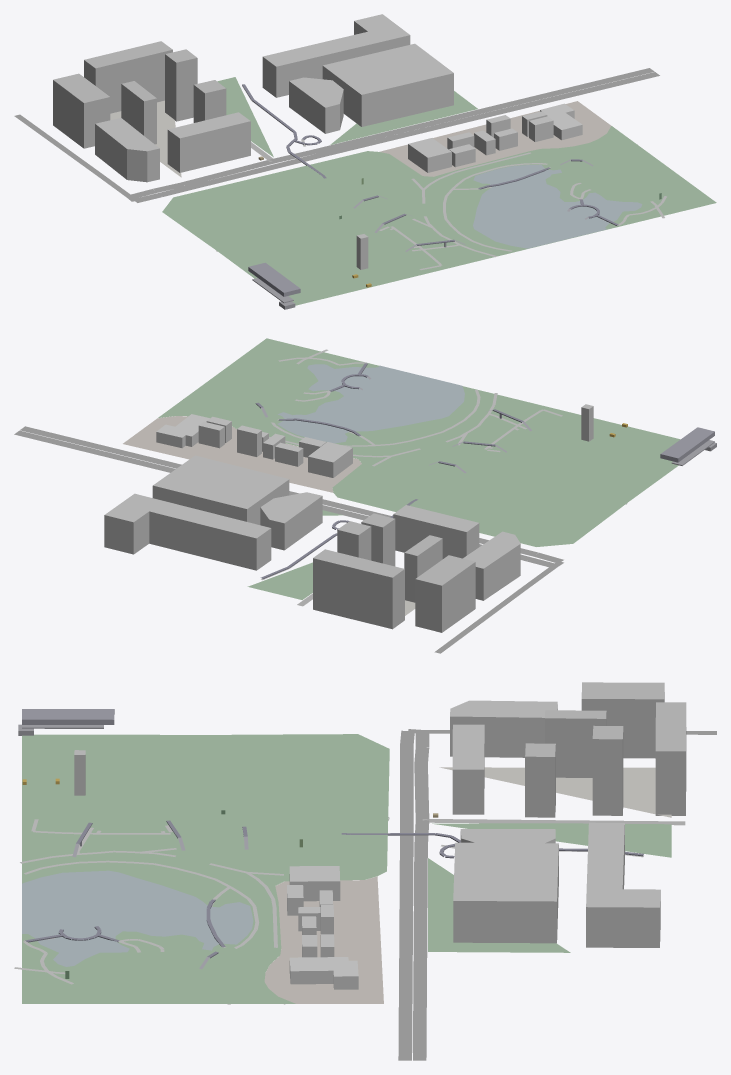
The picture shows the model from 3 angles, top to bottom: view 1: azimuth 30°, elevation 25°; view 2: azimuth 150°, elevation 25°; view 3: azimuth 270°, elevation 25°; orthographic projection. The views are drawn at different scales.
Bounding box in the file's own units: 606 × 66.23 × 541.
